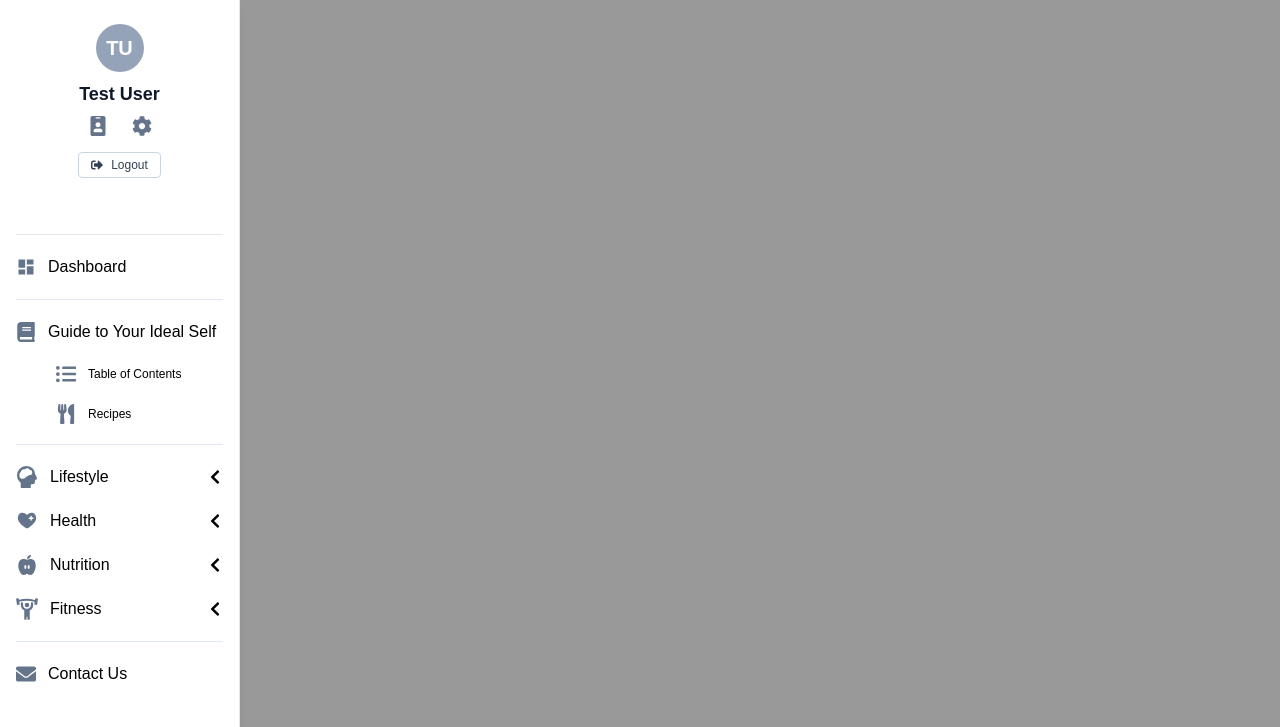
Scenario: UserSidebar Component › expands health section when clicked
Click the button "Health".
click(120, 521)  # box left=8, top=501, right=231, bottom=541
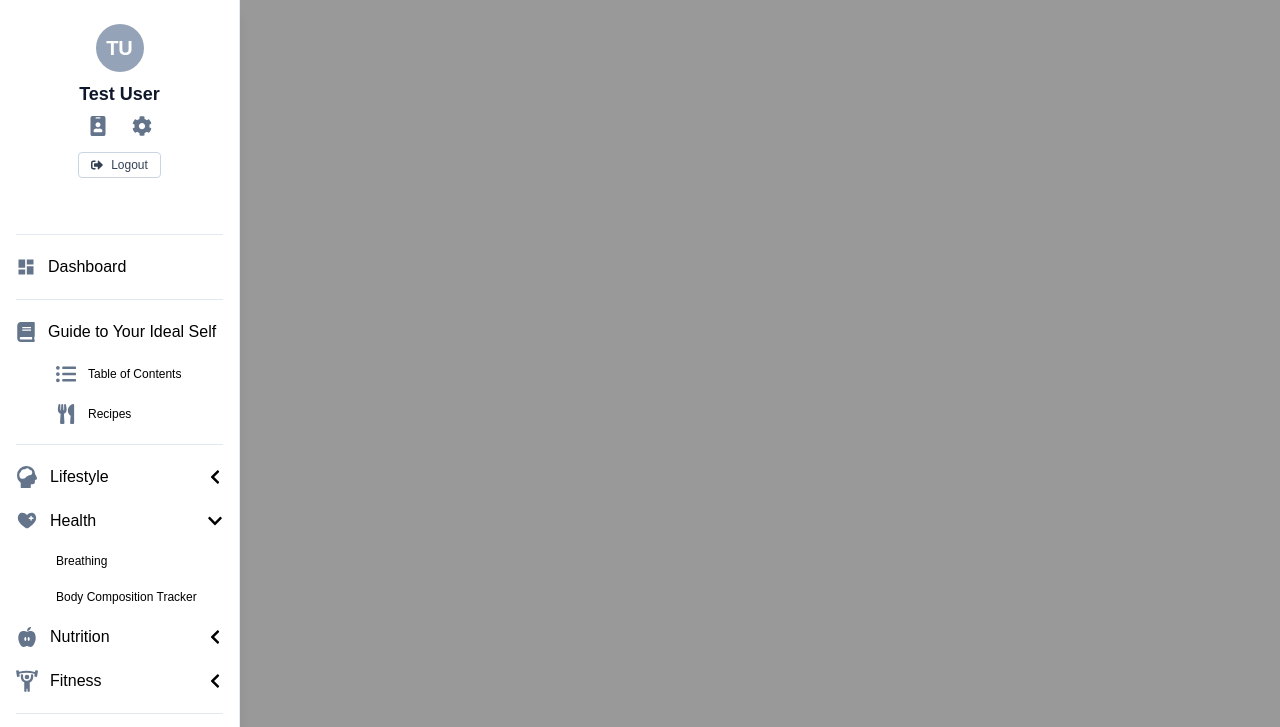
Check: the text "Breathing" is shown, box left=56, top=554, right=107, bottom=568
Check: the text "Body Composition Tracker" is shown, box left=56, top=590, right=197, bottom=604
